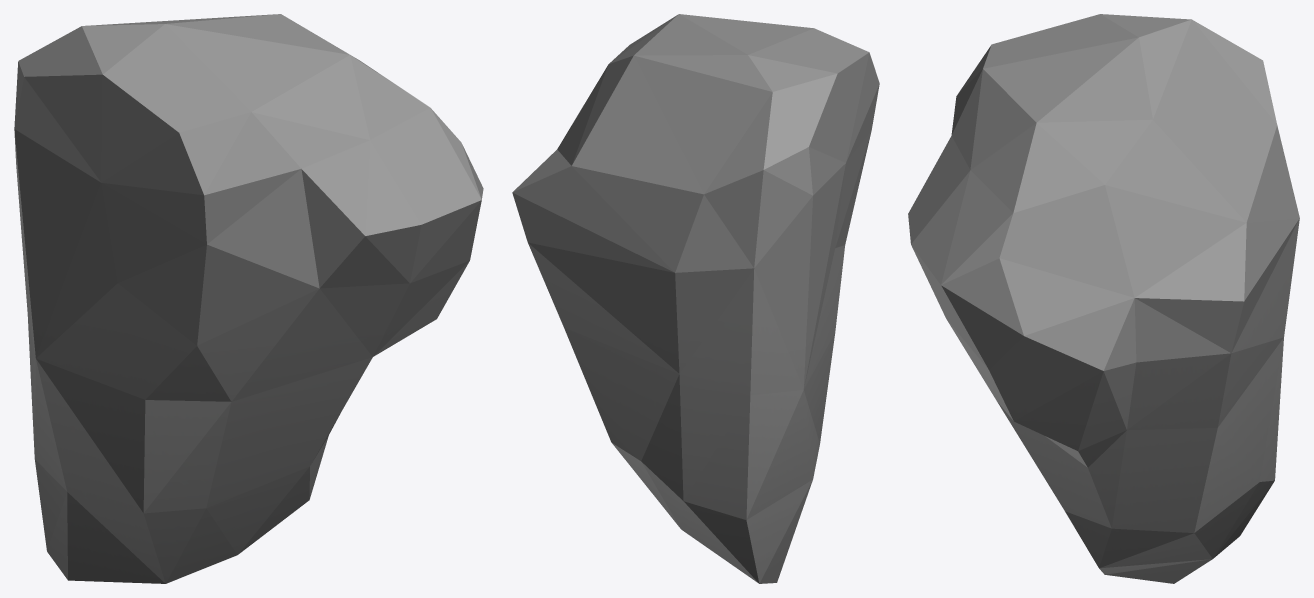
File: Jungle_Boulder_A.fbx
The picture shows the model from 3 angles, left to right: view 1: azimuth 30°, elevation 25°; view 2: azimuth 150°, elevation 25°; view 3: azimuth 270°, elevation 25°; orthographic projection. The views are drawn at different scales.
Visible parts, largest first — view 1: Jungle_Boulder_A; view 2: Jungle_Boulder_A; view 3: Jungle_Boulder_A.
Part boxes in pixels (x1,y1,x2,y2): Jungle_Boulder_A: (14,14,483,583); Jungle_Boulder_A: (512,14,879,583); Jungle_Boulder_A: (908,14,1299,583).
Size of the model in its own units: 3.58 by 5.24 by 3.39.
1 material, 1 textured.
